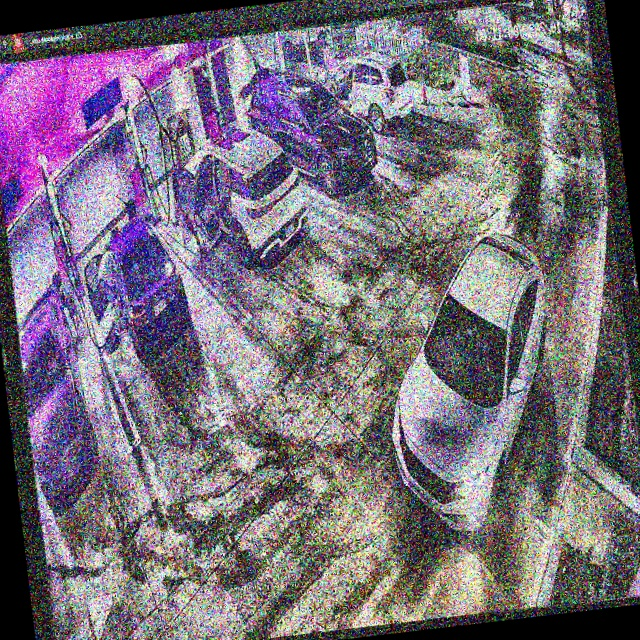Car: (371, 231, 572, 541), (169, 123, 310, 274), (243, 61, 378, 201), (77, 211, 193, 364)
